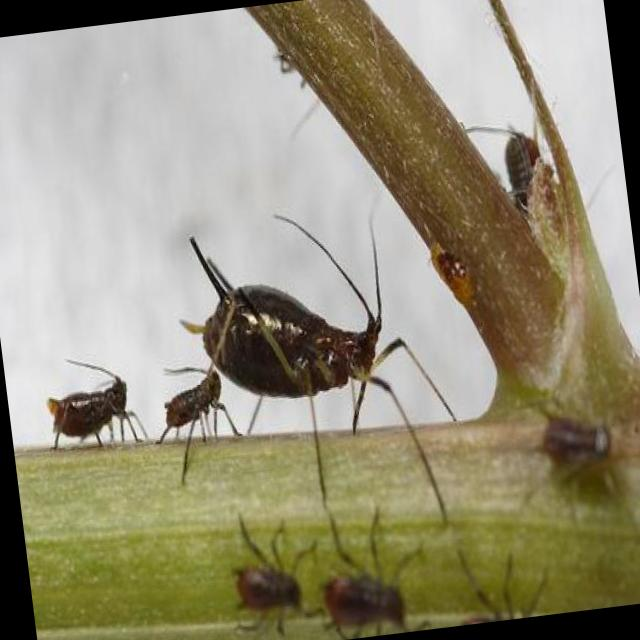aphid: (177, 206, 473, 538), (32, 344, 156, 476), (147, 342, 239, 472)
